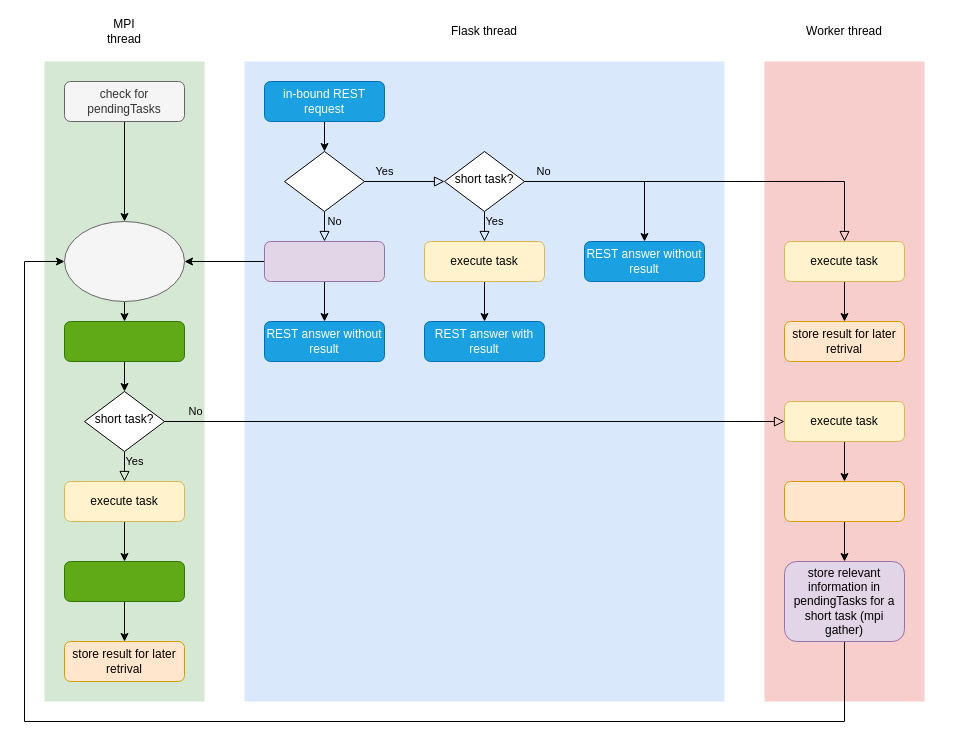
This 970x747 diagram has some shape labels left out. Each missing label, with the centre of its shape:
broadcast task: (124,341)
local only?: (324,181)
mpi gather result: (124,581)
pendingTasks: (124,261)
store relevant information: (324,261)
store result for later mpi gather: (844,501)
